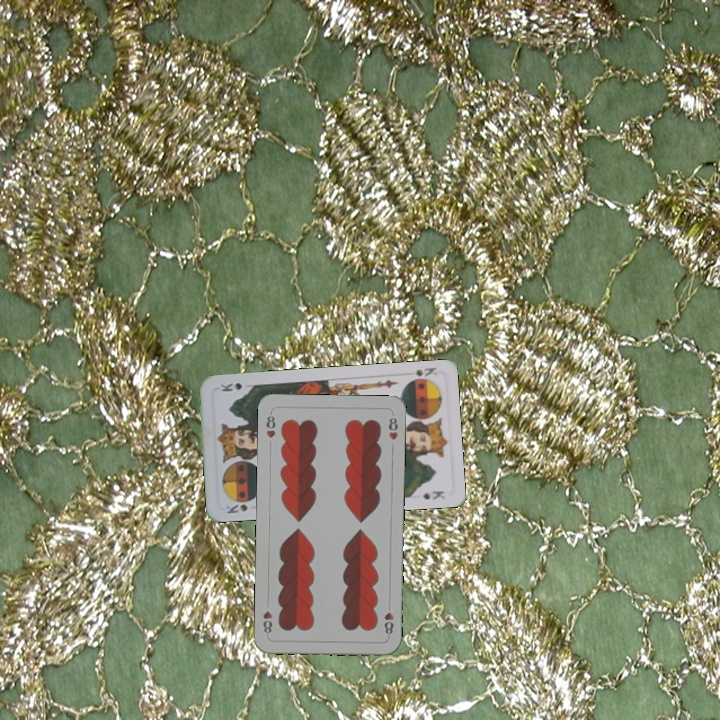H8: (262, 408, 278, 441), (380, 608, 396, 637)
SK: (404, 363, 439, 384), (222, 500, 250, 516)
